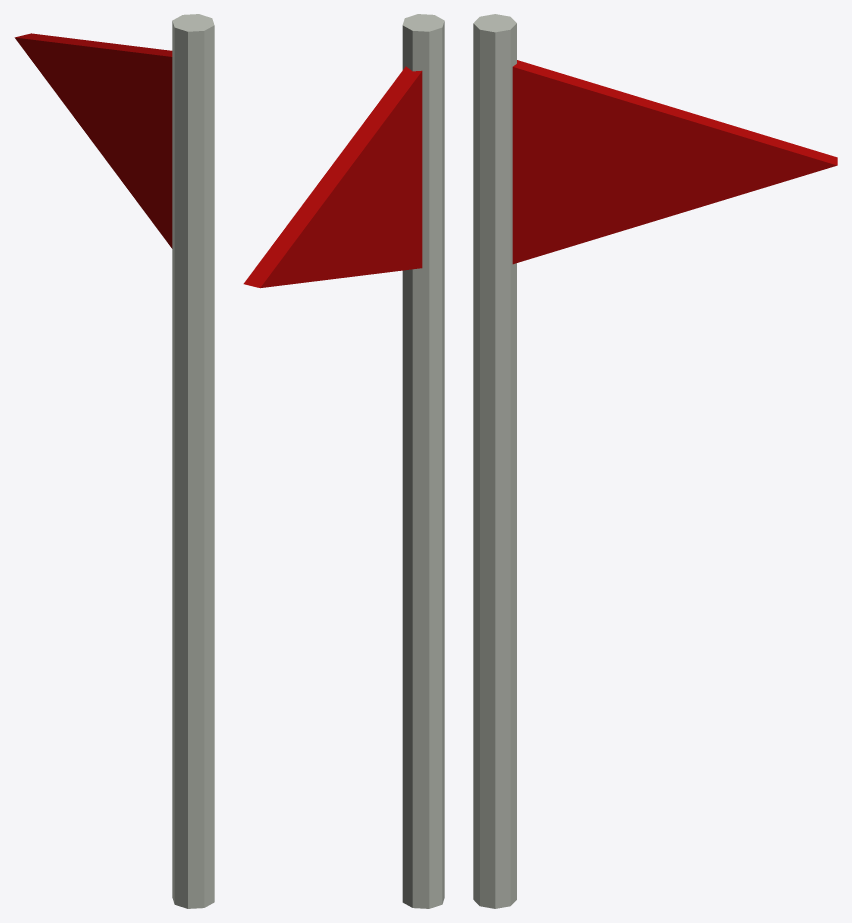
File: HoleFlagPole.glb
3 renders of one model, left to right at view 1: azimuth 30°, elevation 25°; view 2: azimuth 150°, elevation 25°; view 3: azimuth 270°, elevation 25°, orthographic.
Parts seen in each view (by area): view 1: Cylinder, Circle; view 2: Cylinder, Circle; view 3: Cylinder, Circle.
Boxes of the visible parts, x1,y1,x2,y2 form: Cylinder: (172, 14, 214, 908); Circle: (14, 33, 172, 248); Cylinder: (402, 14, 444, 908); Circle: (243, 66, 422, 288); Cylinder: (473, 14, 516, 908); Circle: (512, 60, 837, 264).
Bounding box in the file's own units: 0.36 × 8 × 3.01.
